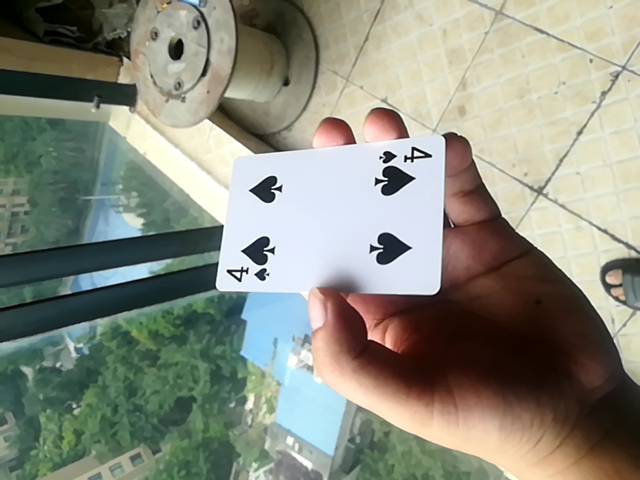ht 4: (209, 131, 451, 299)
